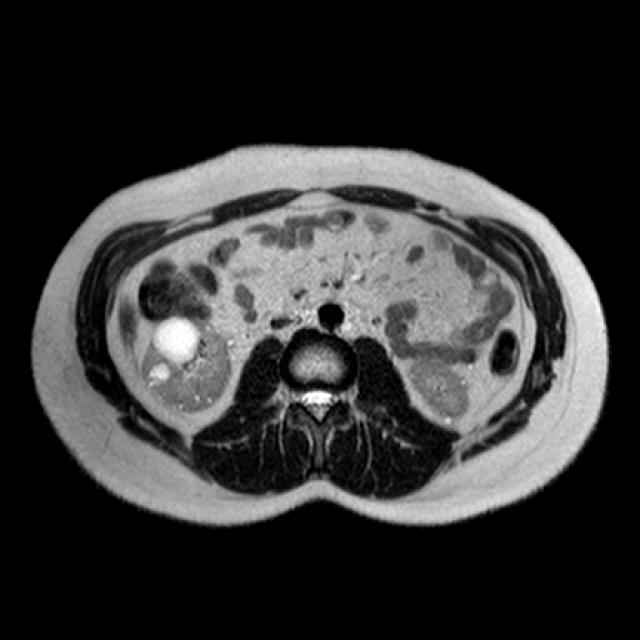sag: (142, 314, 235, 413)
sol: (408, 360, 471, 425)
